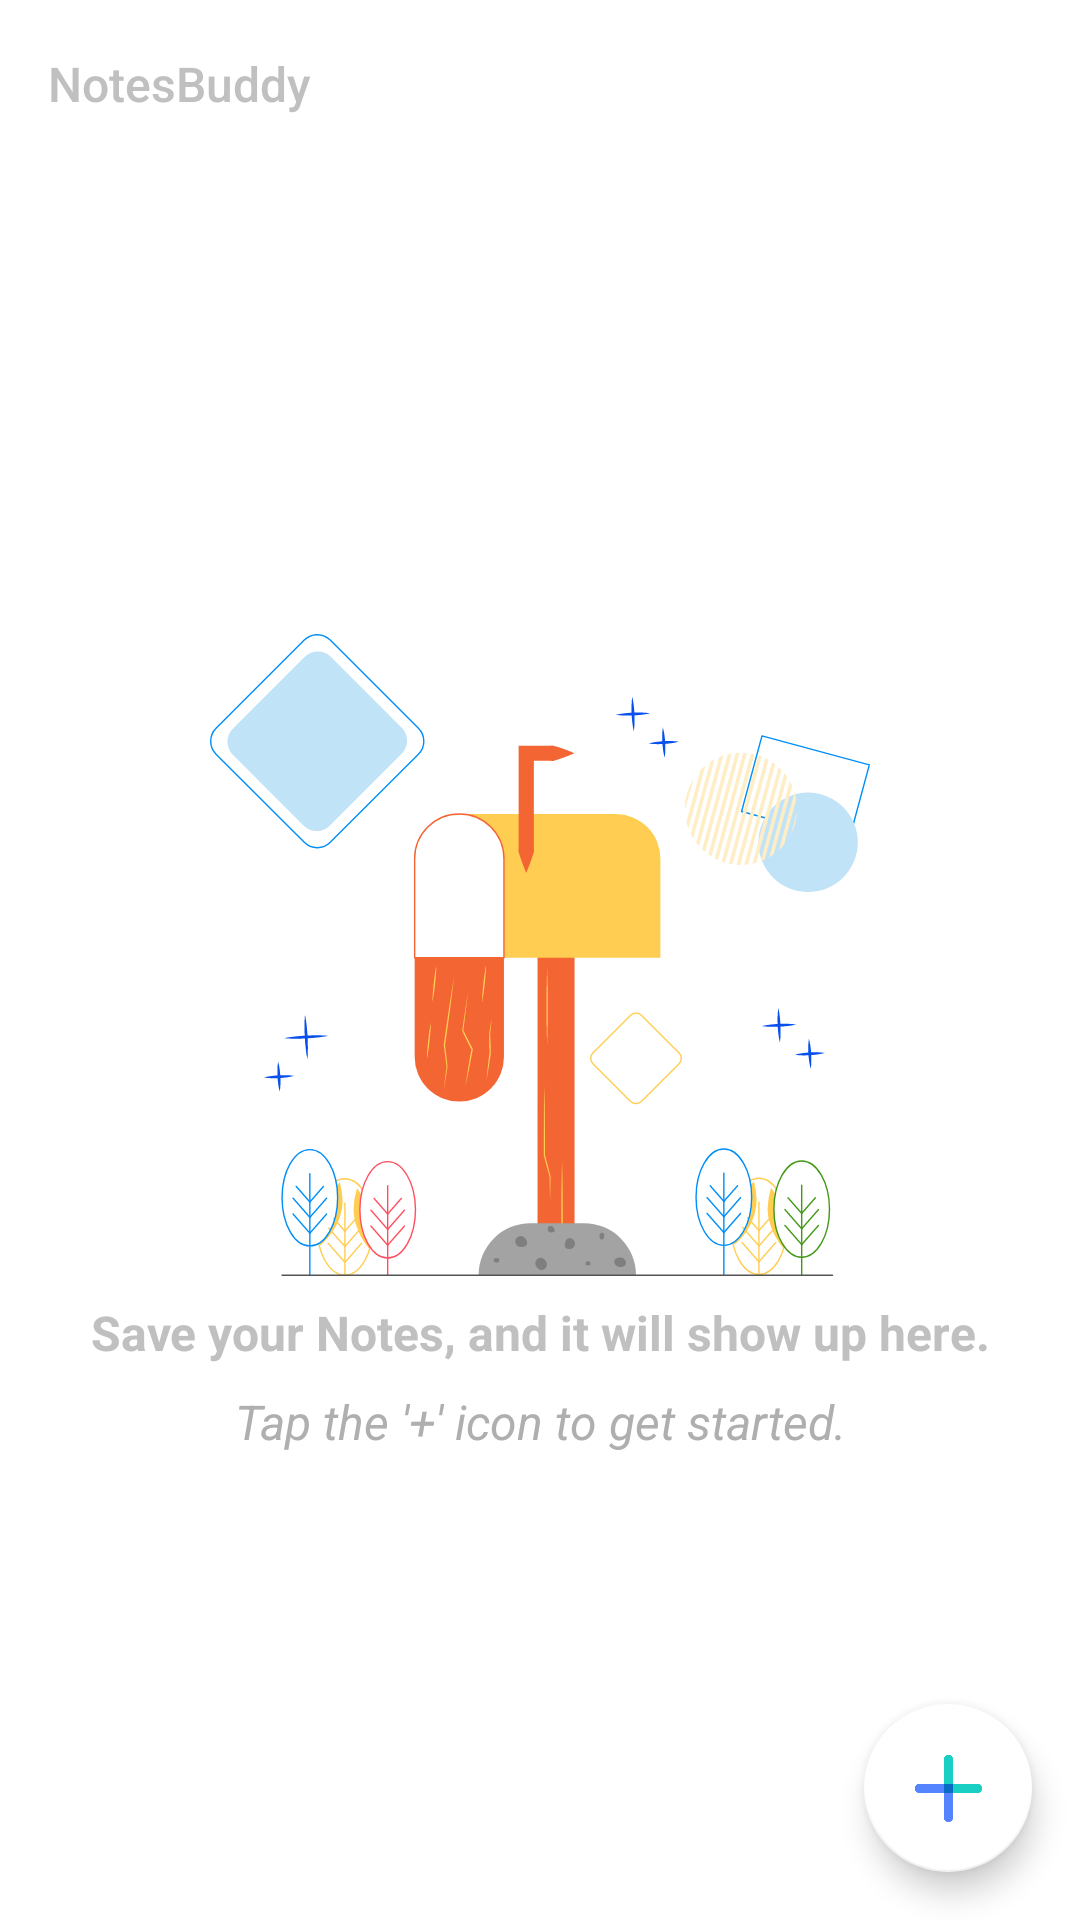

Screen size 1080×1920. Icon name, then its center in pixels as point (x, y):
fab add: point (950, 1813)
